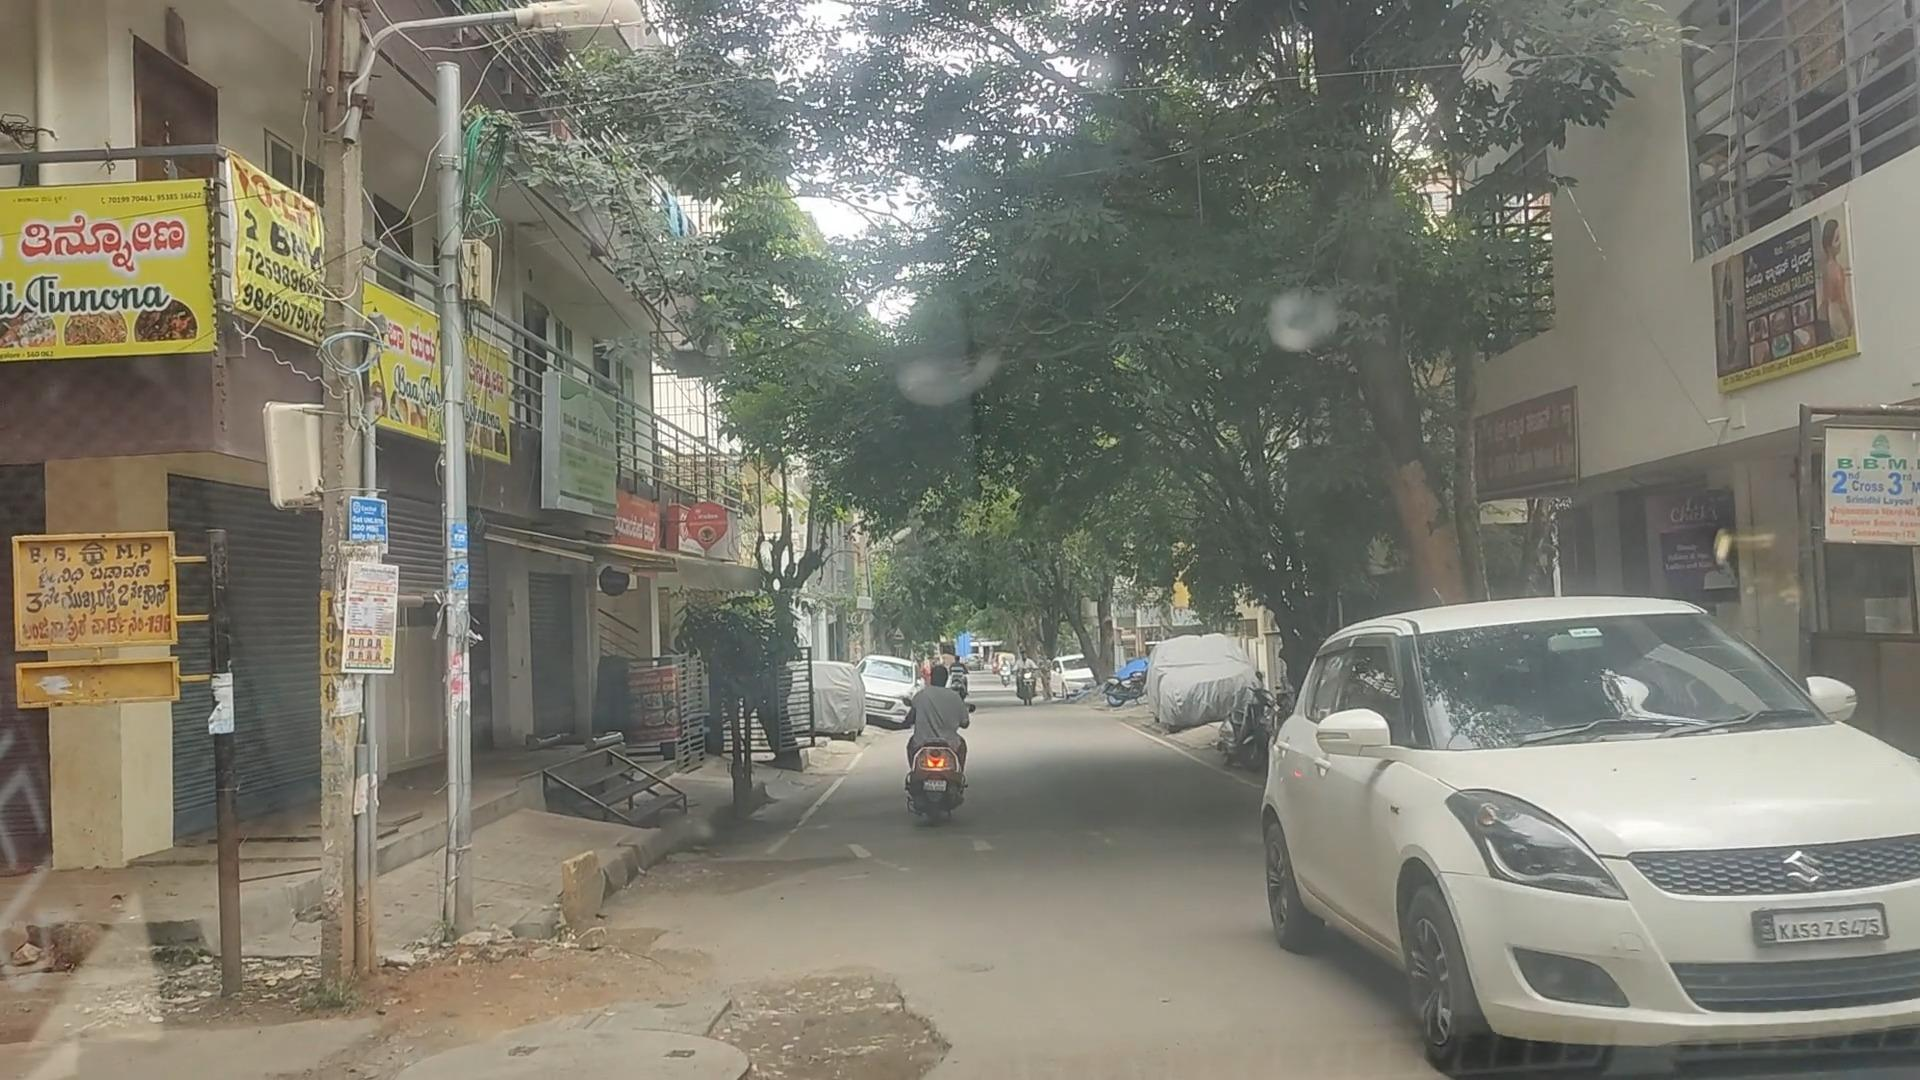LMV: (1265, 600, 1920, 1080), (882, 599, 1004, 851)
RoadDamages: (400, 927, 960, 1080)
